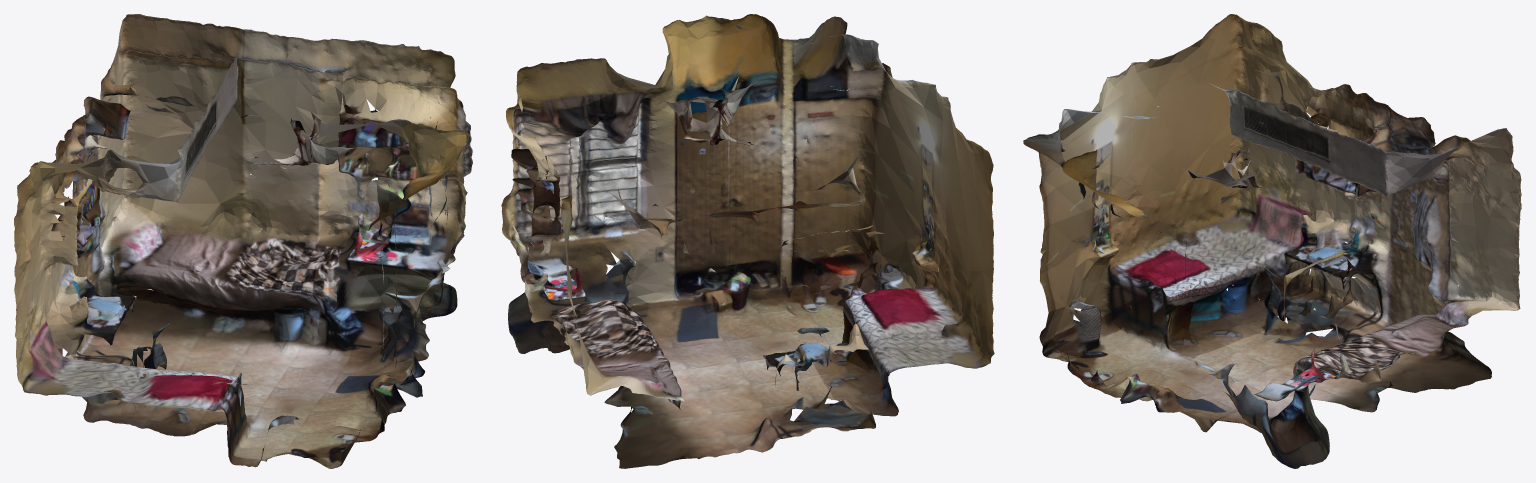
File: hostel.glb
3 views of the same model, side by side, from view 1: azimuth 30°, elevation 25°; view 2: azimuth 150°, elevation 25°; view 3: azimuth 270°, elevation 25° (orthographic). The views are drawn at different scales.
Visible parts, largest first — view 1: mesh; view 2: mesh; view 3: mesh.
Boxes of the visible parts, x1,y1,x2,y2 form: mesh: (14, 14, 472, 468); mesh: (501, 14, 994, 468); mesh: (1023, 14, 1521, 468).
Bounding box in the file's own units: 5.02 × 2.84 × 4.93.
1 material, 1 textured.
